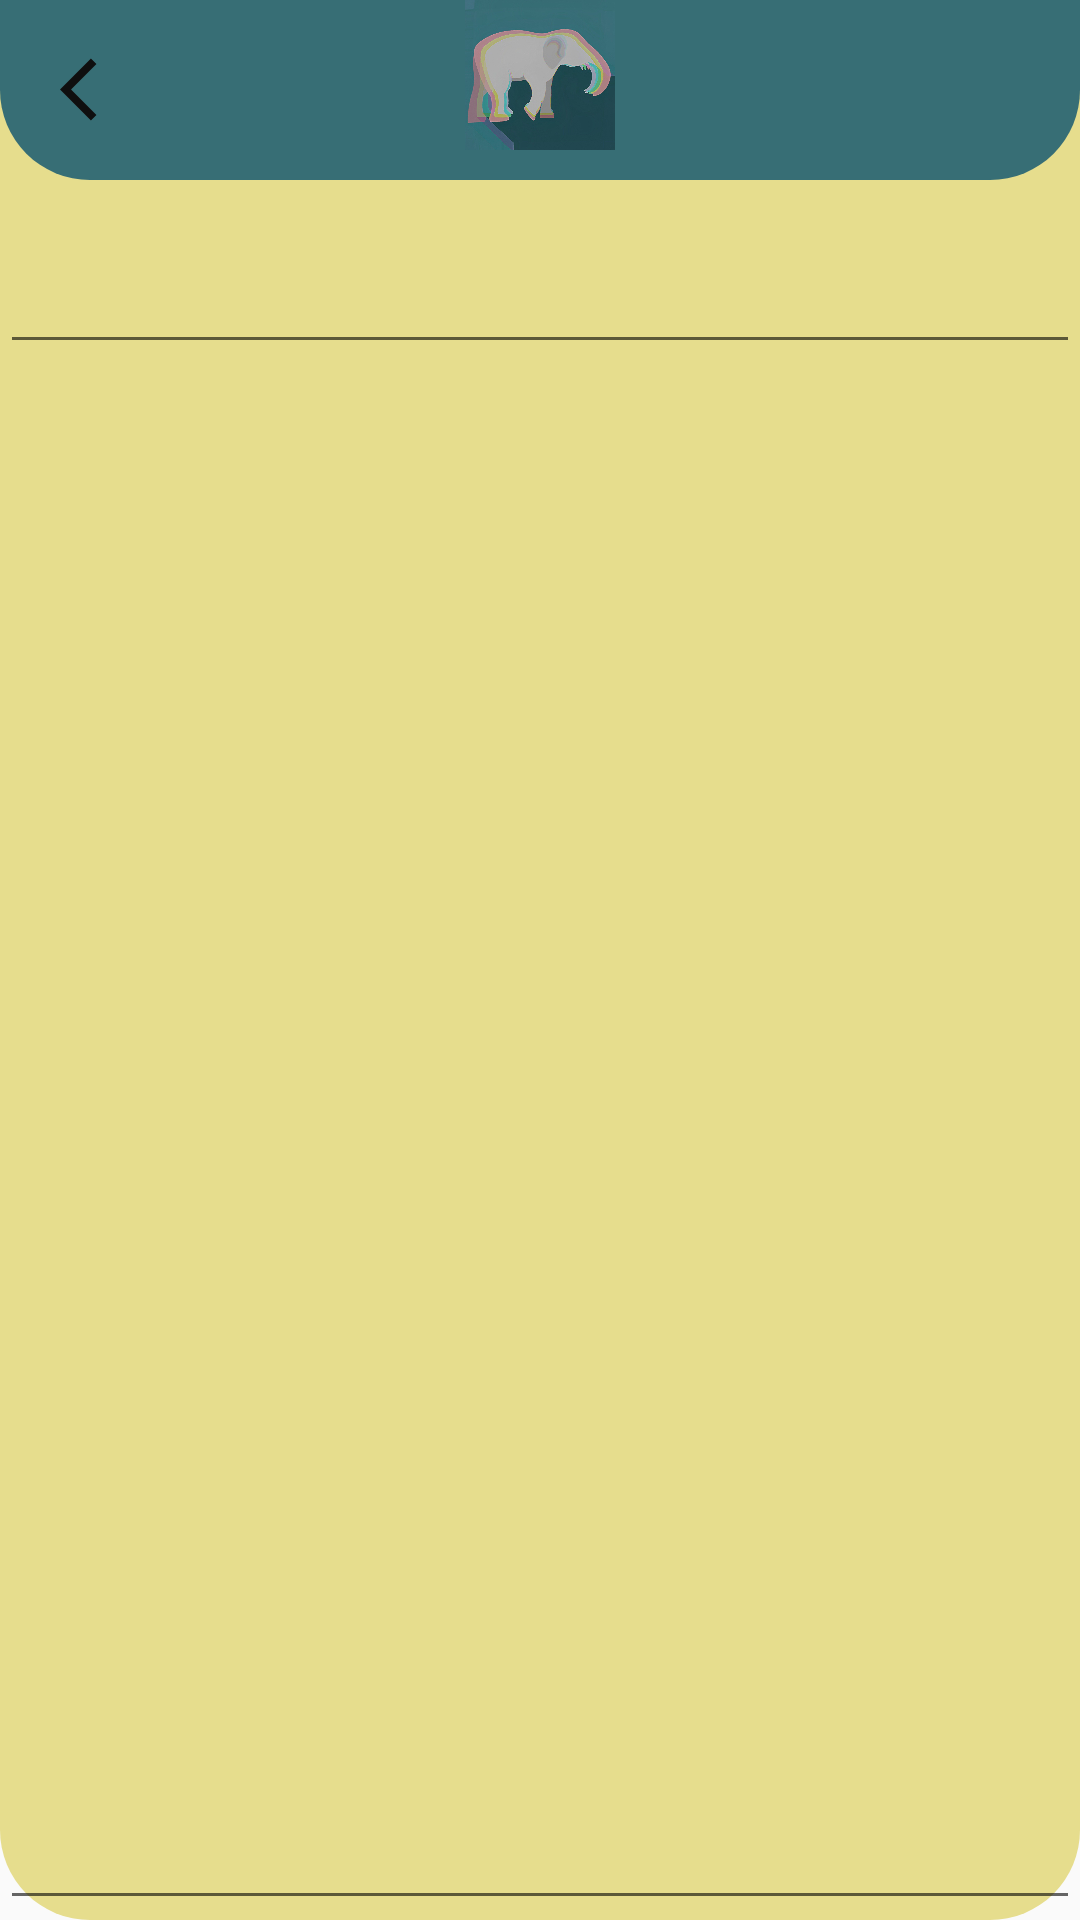

Locate icon controls on the screen. Image size 1080px x 1920px, boxes as BBox(x1, y1, x2, y2).
back: BBox(60, 59, 96, 120)
